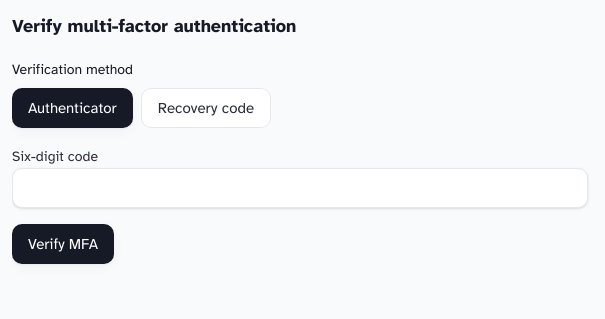
Scenario: platform MFA without tenant authentication › clears a refused factor without retrying or displaying private errors
The width and height of the screenshot is (605, 319).
Type "123456" into the field labelled "Six-digit code" at (300, 188), box [12,168,588,208]
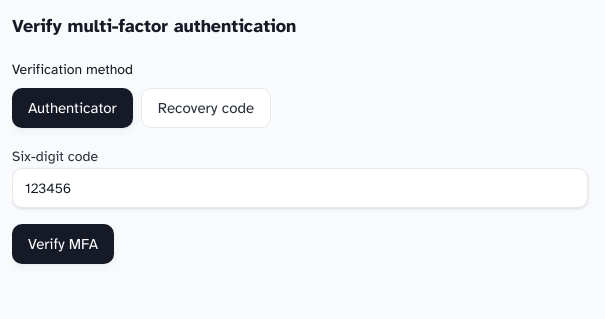
Click the button "Verify MFA" at (63, 244), box [12,224,114,264]
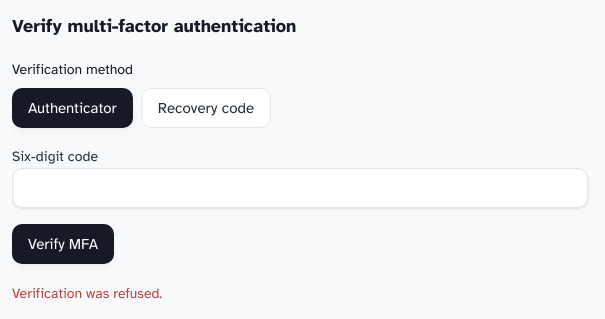
Now the message shows "Verification was refused", box [12,285,162,302]
Now the field labelled "Six-digit code" is empty, box [12,168,588,208]
